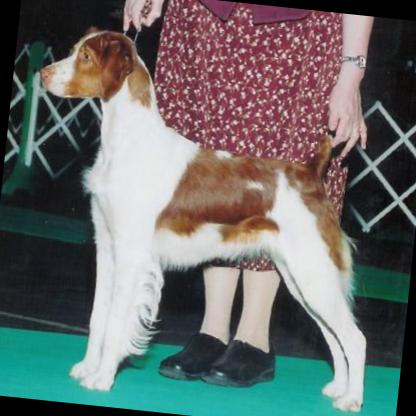Brittany_spaniel: (4, 20, 395, 415)
